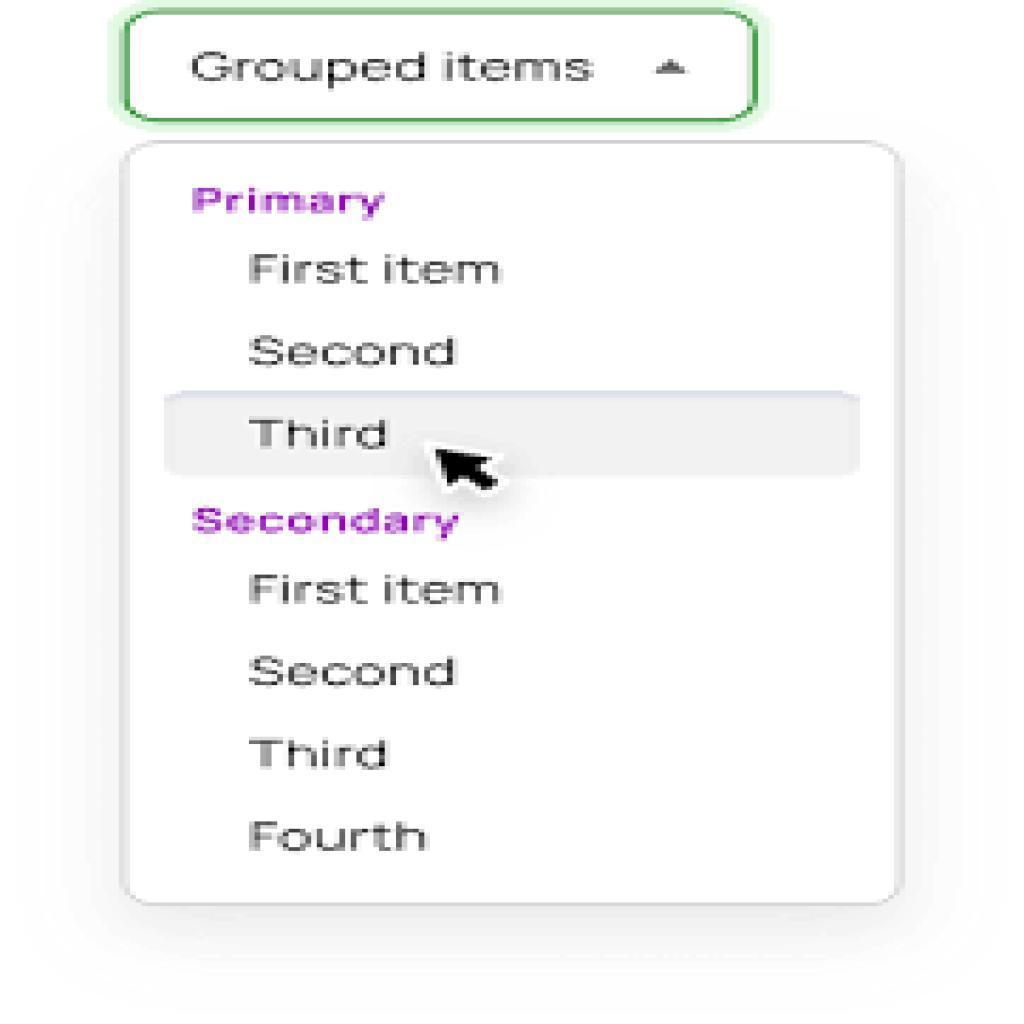dropdown: (127, 12, 760, 125)
